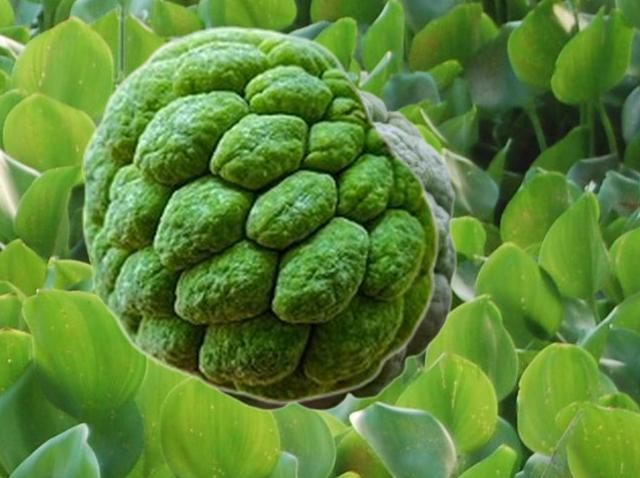atis: (81, 24, 439, 404), (216, 86, 457, 411)
